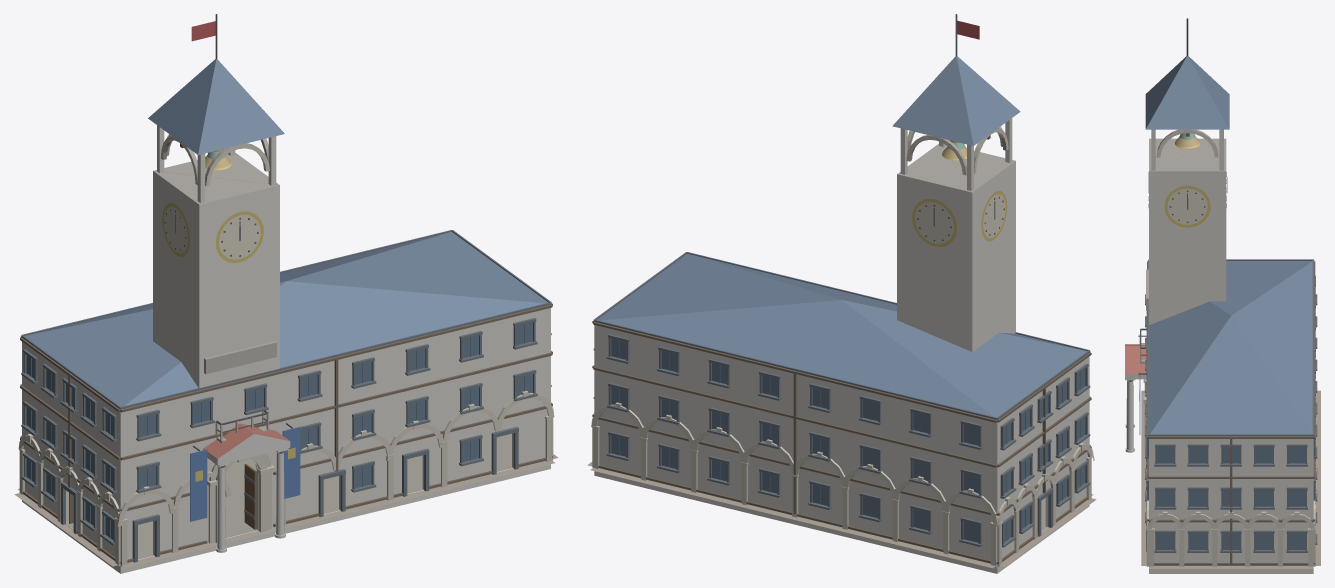
3 renders of one model, left to right at view 1: azimuth 30°, elevation 25°; view 2: azimuth 150°, elevation 25°; view 3: azimuth 270°, elevation 25°, orthographic. The views are drawn at different scales.
Visible parts, largest first — view 1: B058_visible; view 2: B058_visible; view 3: B058_visible, CityHallBellMesh.
Part boxes in pixels (x1,y1,x2,y2): B058_visible: (14, 14, 558, 573); B058_visible: (587, 14, 1096, 573); B058_visible: (1125, 18, 1320, 573); CityHallBellMesh: (1174, 133, 1200, 148).
Size of the model in its own units: 28.8 by 31.73 by 13.15.
